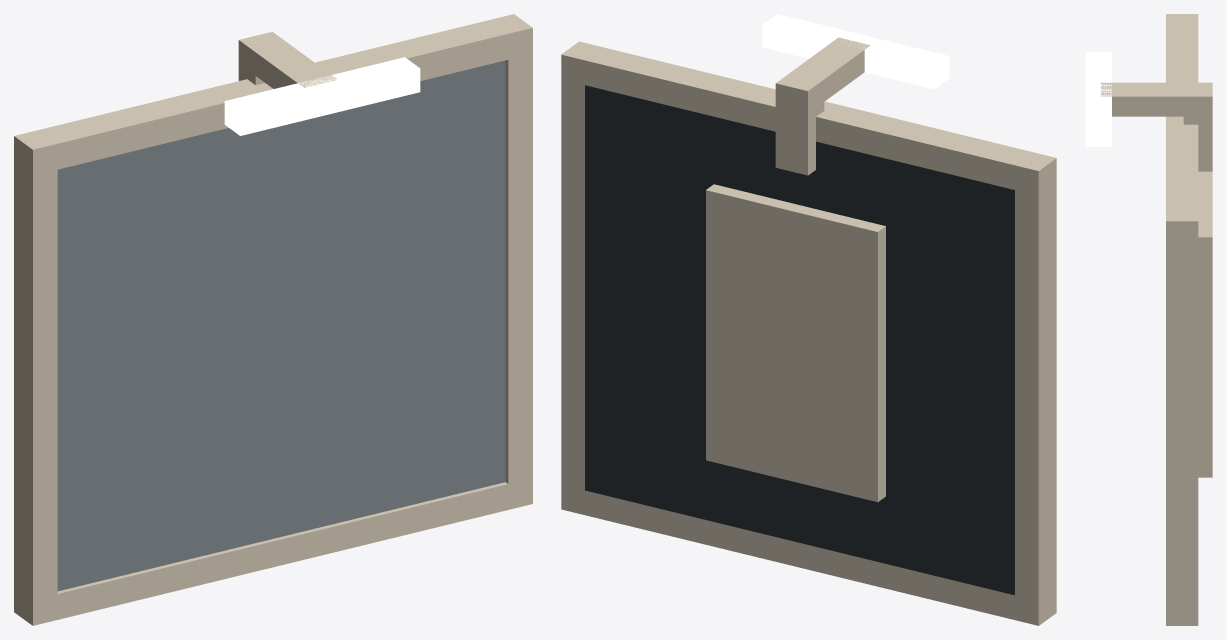
The model's file is lit-frame.glb.
3 views of the same model, side by side, from view 1: azimuth 30°, elevation 25°; view 2: azimuth 150°, elevation 25°; view 3: azimuth 270°, elevation 25° (orthographic). The views are drawn at different scales.
Parts seen in each view (by area): view 1: makeup-face-center, makeup-frame-center, makeup-lamp, makeup-lamp-arm; view 2: makeup-back-center, makeup-frame-center, makeup-wall-mount, makeup-lamp, makeup-lamp-arm, makeup-lamp-riser; view 3: makeup-frame-center, makeup-wall-mount, makeup-lamp-arm, makeup-lamp, makeup-lamp-riser.
Boxes of the visible parts, x1,y1,x2,y2 form: makeup-face-center: (57, 60, 505, 591); makeup-frame-center: (14, 14, 532, 625); makeup-lamp: (224, 57, 420, 135); makeup-lamp-arm: (238, 31, 336, 88); makeup-back-center: (585, 85, 1014, 595); makeup-frame-center: (561, 41, 1056, 625); makeup-wall-mount: (706, 184, 885, 502); makeup-lamp: (762, 14, 949, 89); makeup-lamp-arm: (775, 37, 870, 113); makeup-lamp-riser: (775, 87, 824, 175); makeup-frame-center: (1166, 14, 1198, 625); makeup-wall-mount: (1198, 171, 1212, 477); makeup-lamp-arm: (1101, 82, 1212, 116); makeup-lamp: (1085, 52, 1111, 146); makeup-lamp-riser: (1183, 103, 1212, 171).
Size of the model in its own units: 0.444 by 0.432 by 0.115.
